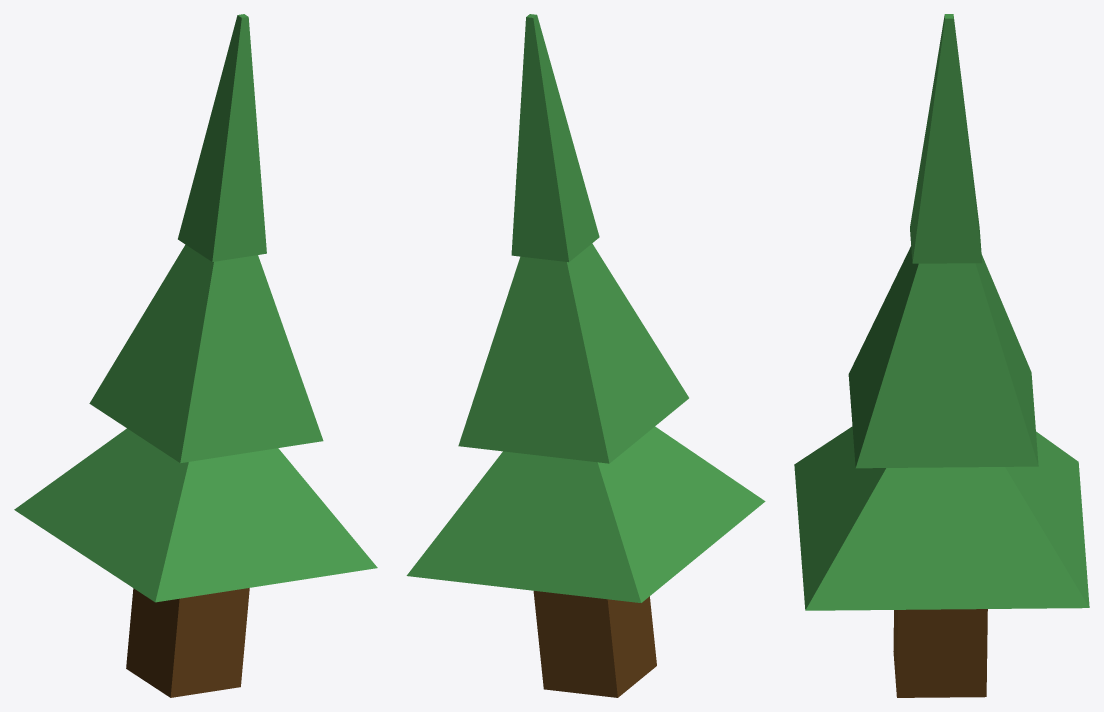
3 views of the same model, side by side, from view 1: azimuth 30°, elevation 25°; view 2: azimuth 150°, elevation 25°; view 3: azimuth 270°, elevation 25° (orthographic). The views are drawn at different scales.
Visible parts, largest first — view 1: Cube.009; view 2: Cube.009; view 3: Cube.009.
Boxes of the visible parts, <box> form: Cube.009: <box>14,14,377,697</box>; Cube.009: <box>406,14,765,697</box>; Cube.009: <box>794,14,1089,697</box>.
Bounding box in the file's own units: 3.59 × 9.38 × 3.6.
